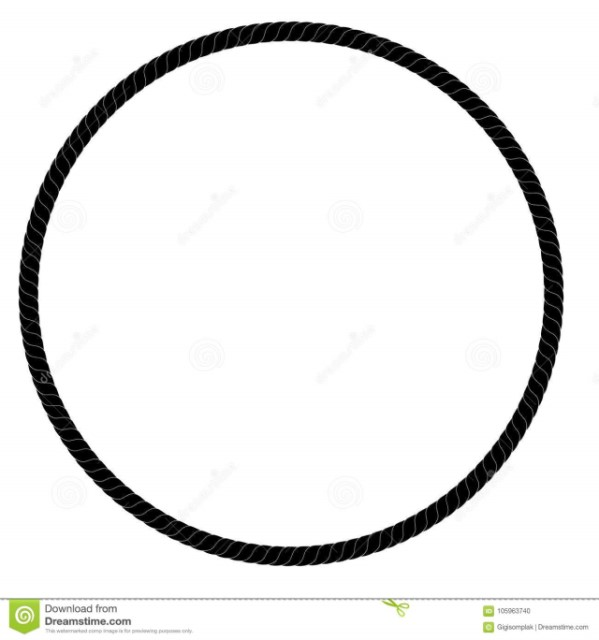circulo: (18, 22, 565, 567)
